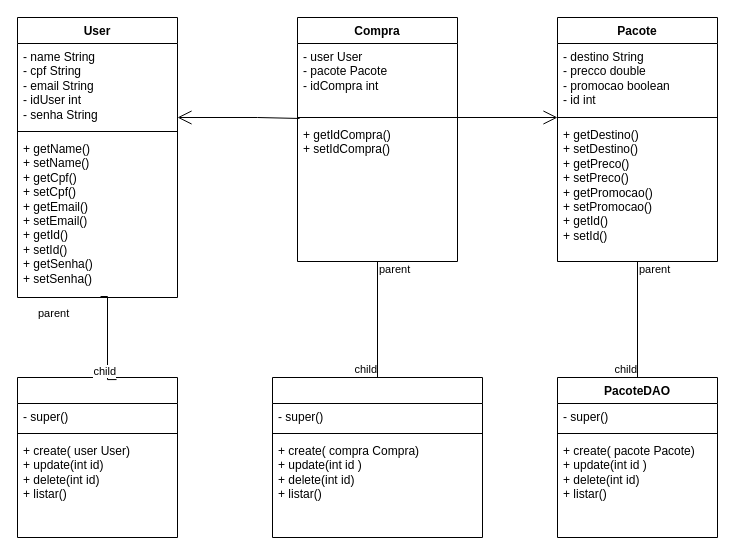
Image size: 735x558. Some labels were removed from this diagram. The shapes that lost their labels are listed below. From the top down, each one's box as (x1, y1, x2, y2) in pixels, then its label:
(16, 376, 178, 538): UserDAO
(272, 376, 482, 538): CompraDAO
